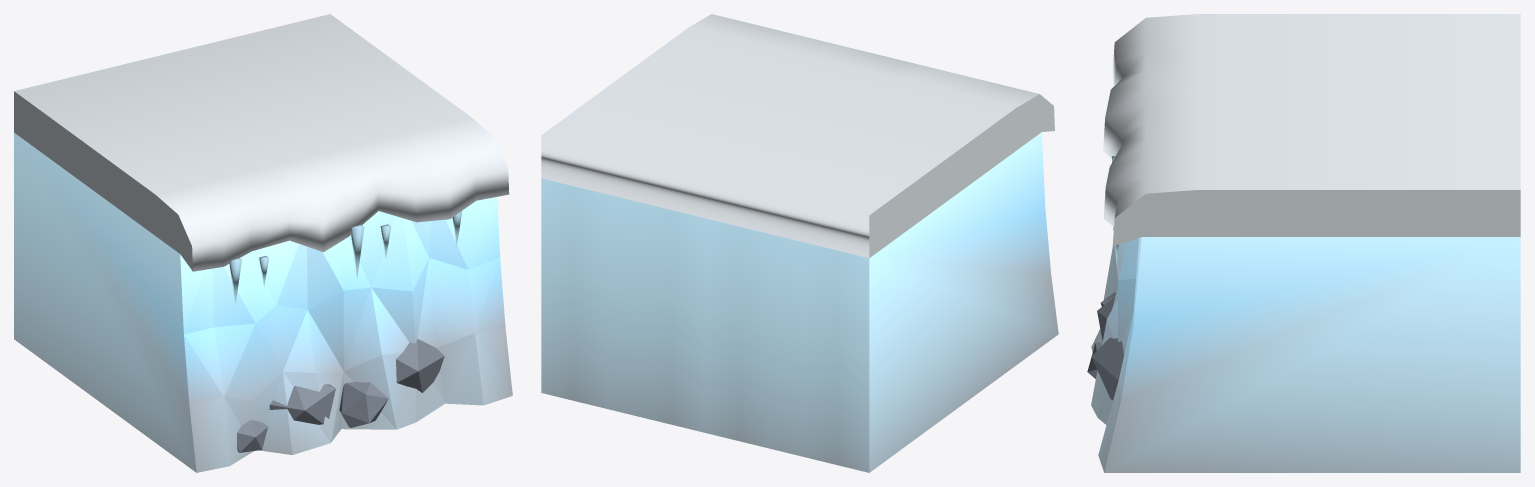
Rendered from Env_Cliff_Collapsed.glb.
3 renders of one model, left to right at view 1: azimuth 30°, elevation 25°; view 2: azimuth 150°, elevation 25°; view 3: azimuth 270°, elevation 25°, orthographic. The views are drawn at different scales.
Visible parts, largest first — view 1: Cliff_Straight_Wall.001, Cliff_Straight_Snow.001, Cliff_Collapsed_Boulders, Cliff_Straight_Icicles.001; view 2: Cliff_Straight_Wall.001, Cliff_Straight_Snow.001; view 3: Cliff_Straight_Wall.001, Cliff_Straight_Snow.001, Cliff_Collapsed_Boulders.
Part boxes in pixels (x1=…): Cliff_Straight_Wall.001: x1=14, y1=132, x2=512, y2=472; Cliff_Straight_Snow.001: x1=14, y1=14, x2=509, y2=271; Cliff_Collapsed_Boulders: x1=236, y1=339, x2=444, y2=452; Cliff_Straight_Icicles.001: x1=229, y1=211, x2=462, y2=305; Cliff_Straight_Wall.001: x1=541, y1=132, x2=1058, y2=472; Cliff_Straight_Snow.001: x1=541, y1=14, x2=1054, y2=258; Cliff_Straight_Wall.001: x1=1091, y1=237, x2=1520, y2=472; Cliff_Straight_Snow.001: x1=1103, y1=14, x2=1520, y2=246; Cliff_Collapsed_Boulders: x1=1087, y1=292, x2=1123, y2=399.
Size of the model in its own units: 2 by 1.51 by 2.08.
